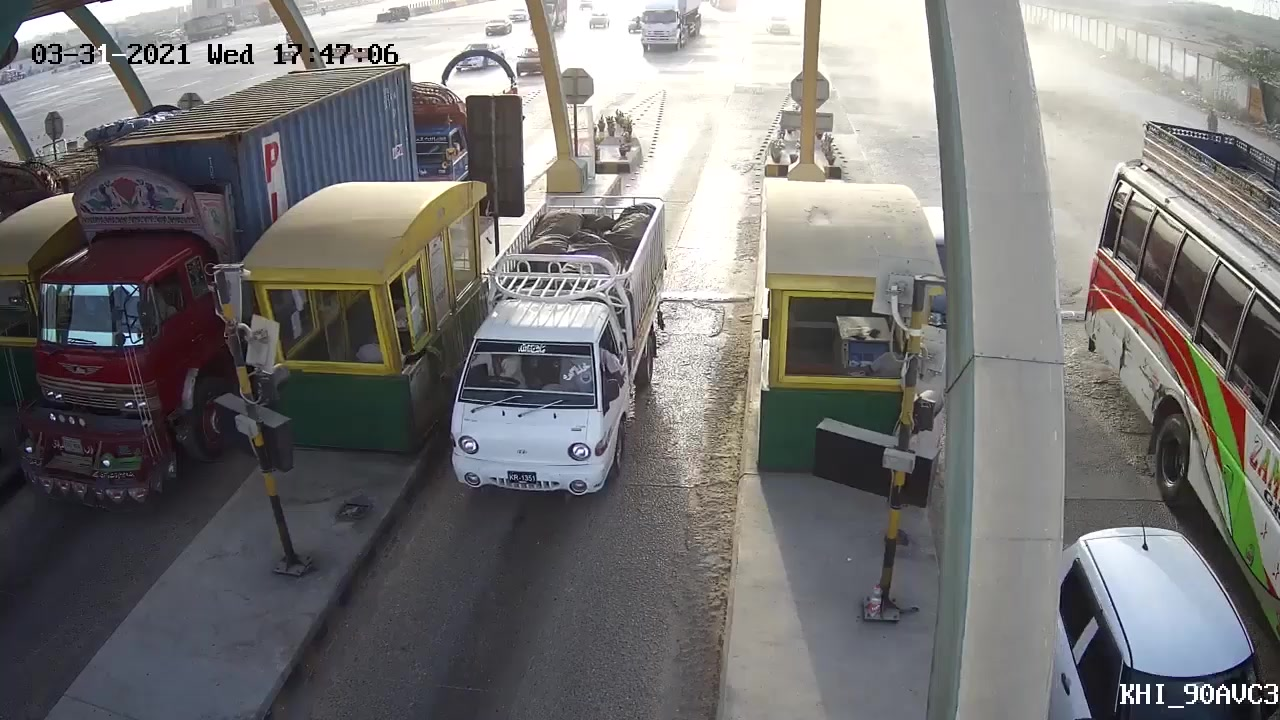F3: (442, 165, 672, 512)
